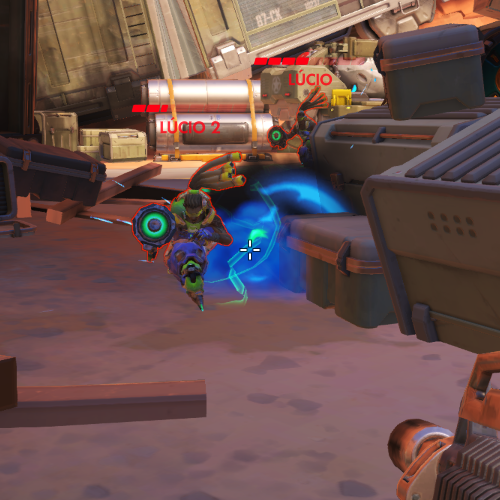hpbar: (131, 104, 247, 113), (253, 57, 365, 65)
